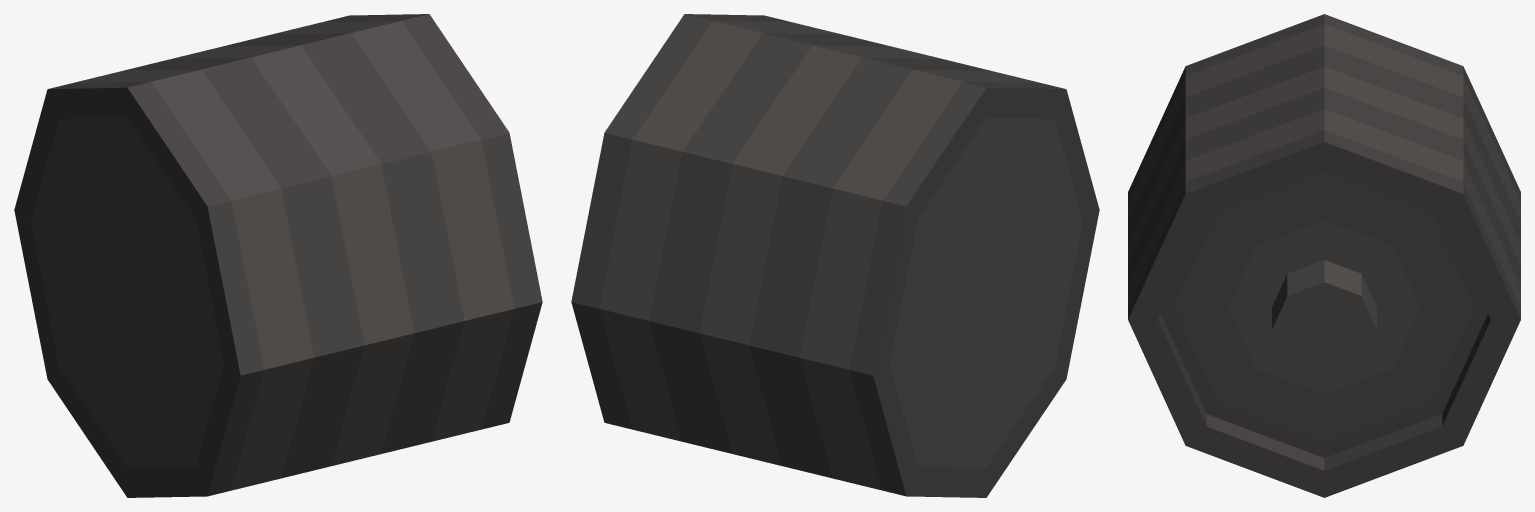
Rendered from wire_drum.obj.
3 views of the same model, side by side, from view 1: azimuth 30°, elevation 25°; view 2: azimuth 150°, elevation 25°; view 3: azimuth 270°, elevation 25° (orthographic). The views are drawn at different scales.
Parts seen in each view (by area): view 1: Цилиндр.009; view 2: Цилиндр.009; view 3: Цилиндр.009.
Boxes of the visible parts, x1=… form: Цилиндр.009: x1=14, y1=14, x2=542, y2=497; Цилиндр.009: x1=571, y1=14, x2=1099, y2=497; Цилиндр.009: x1=1128, y1=14, x2=1520, y2=497.
Bounding box in the file's own units: 0.3001 × 0.362 × 0.362.
